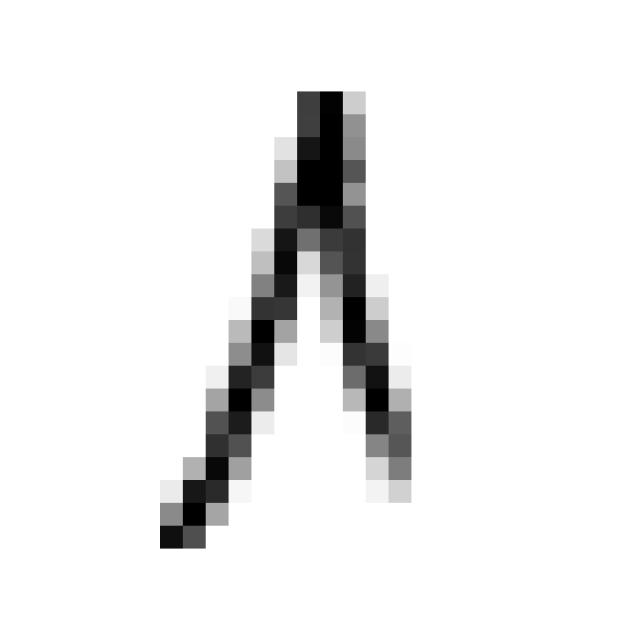8 -eight-: (135, 62, 439, 566)
